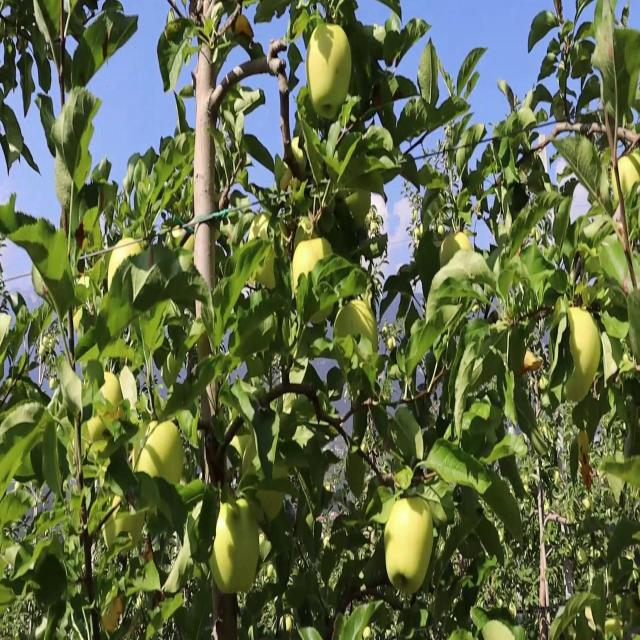apple: (216, 497, 262, 596), (388, 497, 435, 588), (308, 28, 353, 121), (136, 419, 186, 485), (152, 419, 187, 487), (336, 298, 377, 356), (568, 312, 603, 379), (296, 234, 333, 284), (308, 79, 343, 126), (108, 241, 141, 290), (344, 298, 377, 341), (136, 426, 162, 480), (344, 184, 372, 233), (132, 433, 161, 480), (564, 362, 595, 405), (440, 234, 473, 268), (404, 556, 431, 597), (100, 376, 123, 420), (312, 94, 343, 126), (256, 248, 277, 292), (260, 490, 285, 524), (84, 412, 107, 444), (104, 597, 124, 633), (236, 7, 254, 41), (484, 625, 513, 639), (256, 7, 276, 27)
